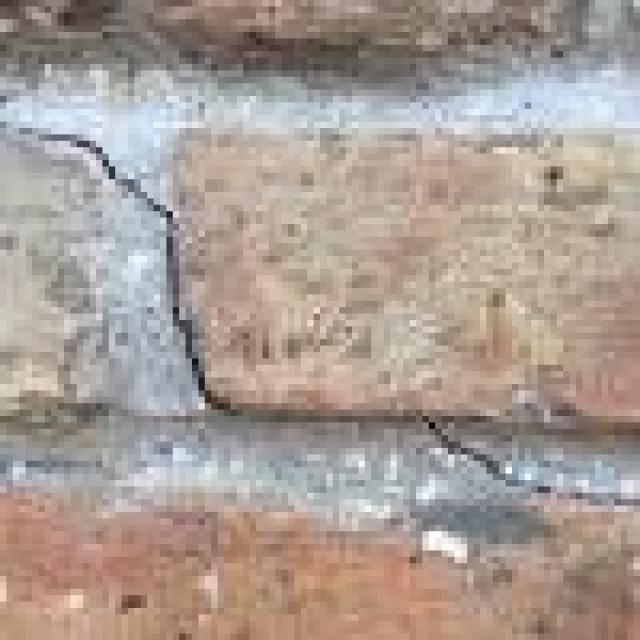Crack: (0, 109, 634, 499)
